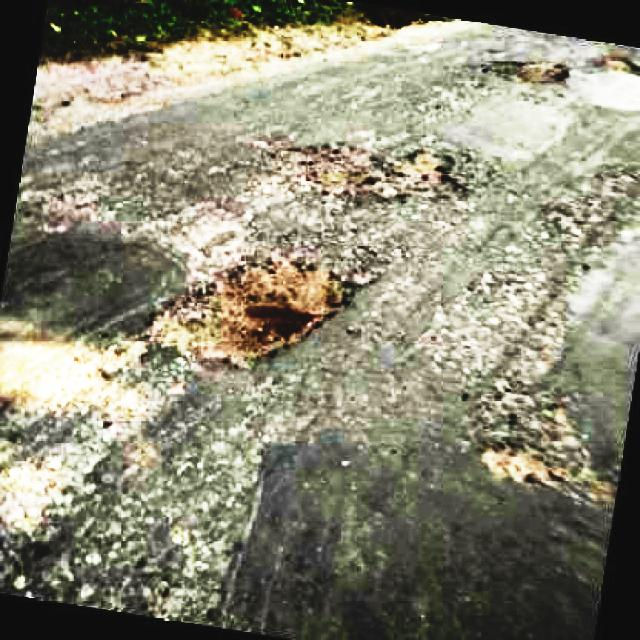pothole: (144, 252, 362, 368), (296, 146, 472, 205), (480, 442, 569, 486), (490, 59, 576, 90)
